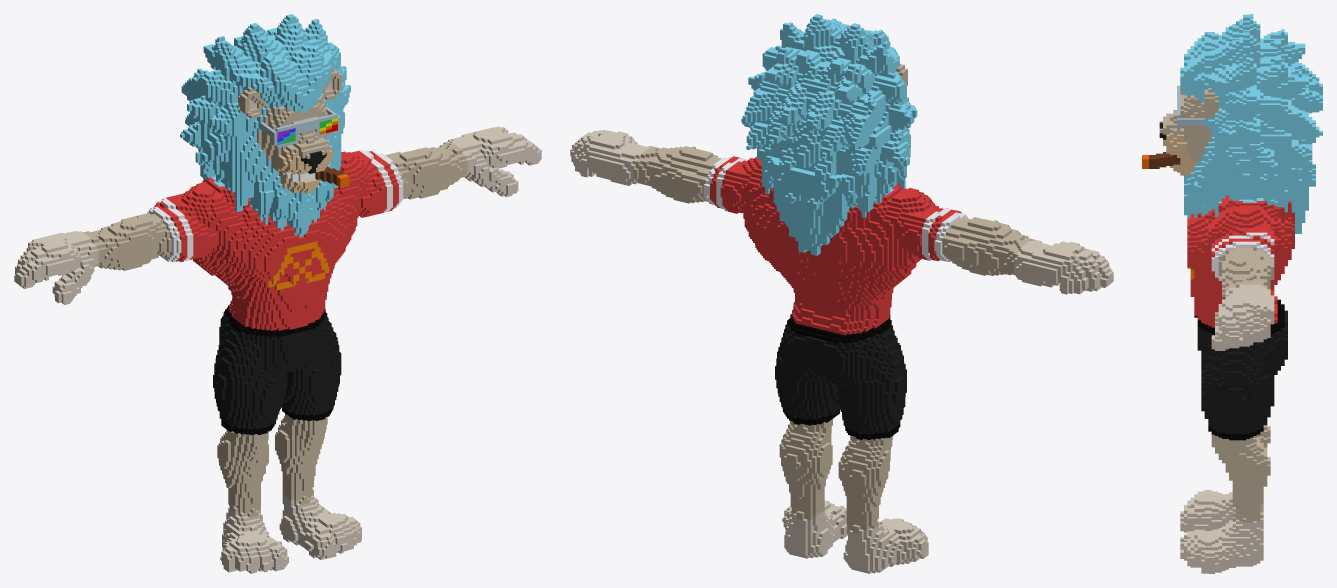
The model's file is 927-BMv6_FL6.glb.
3 renders of one model, left to right at view 1: azimuth 30°, elevation 25°; view 2: azimuth 150°, elevation 25°; view 3: azimuth 270°, elevation 25°, orthographic. The views are drawn at different scales.
Visible parts, largest first — view 1: cigar; view 2: cigar; view 3: cigar.
Boxes of the visible parts, x1,y1,x2,y2 form: cigar: (14,14,541,573); cigar: (570,14,1113,573); cigar: (1142,14,1322,573).
Size of the model in its own units: 17.2 by 16.5 by 5.2.
Materials: 5 (5 with a texture image).
